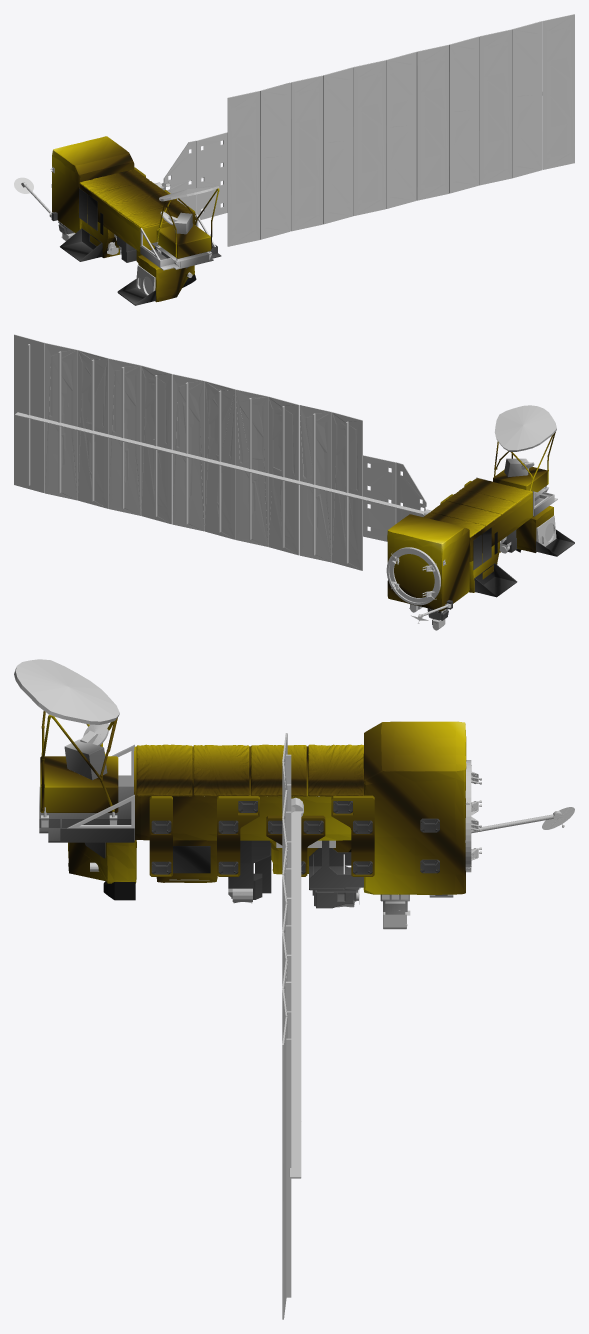
File: c_aqua.glb
3 renders of one model, top to bottom at view 1: azimuth 30°, elevation 25°; view 2: azimuth 150°, elevation 25°; view 3: azimuth 270°, elevation 25°, orthographic. The views are drawn at different scales.
Size of the model in its own units: 63.78 by 18.23 by 33.72.
4 materials, 2 textured.
